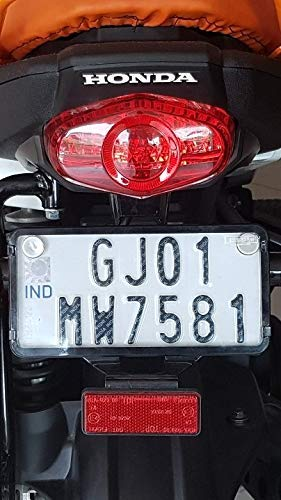doublelinenumberplate: (8, 226, 268, 357)
